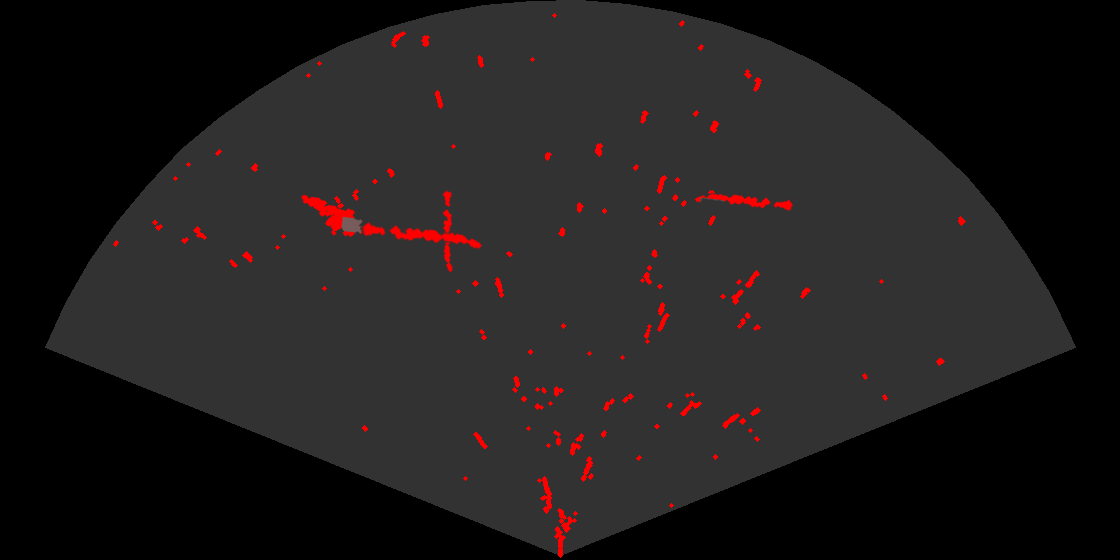chain: (360, 220, 484, 250), (693, 192, 795, 212), (441, 189, 454, 272)
frogman: (299, 193, 368, 238)
